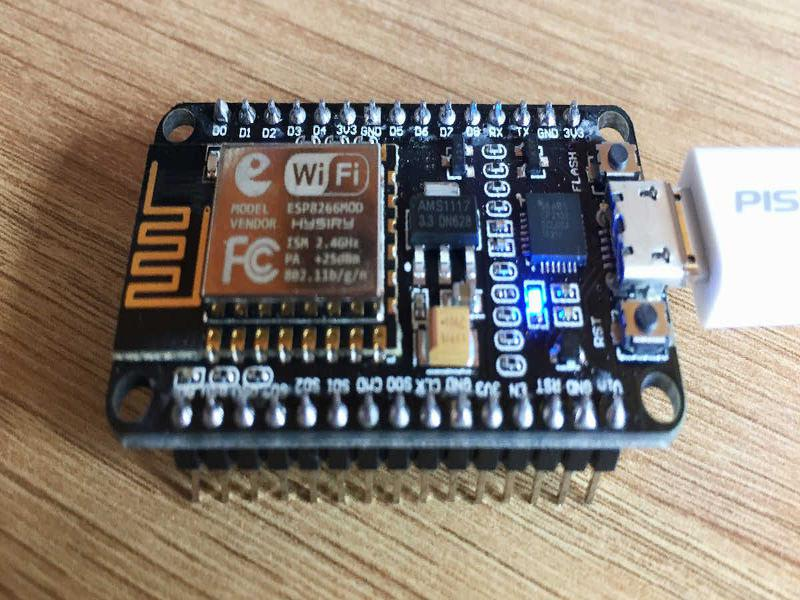NodeMCU: (107, 95, 691, 505)
